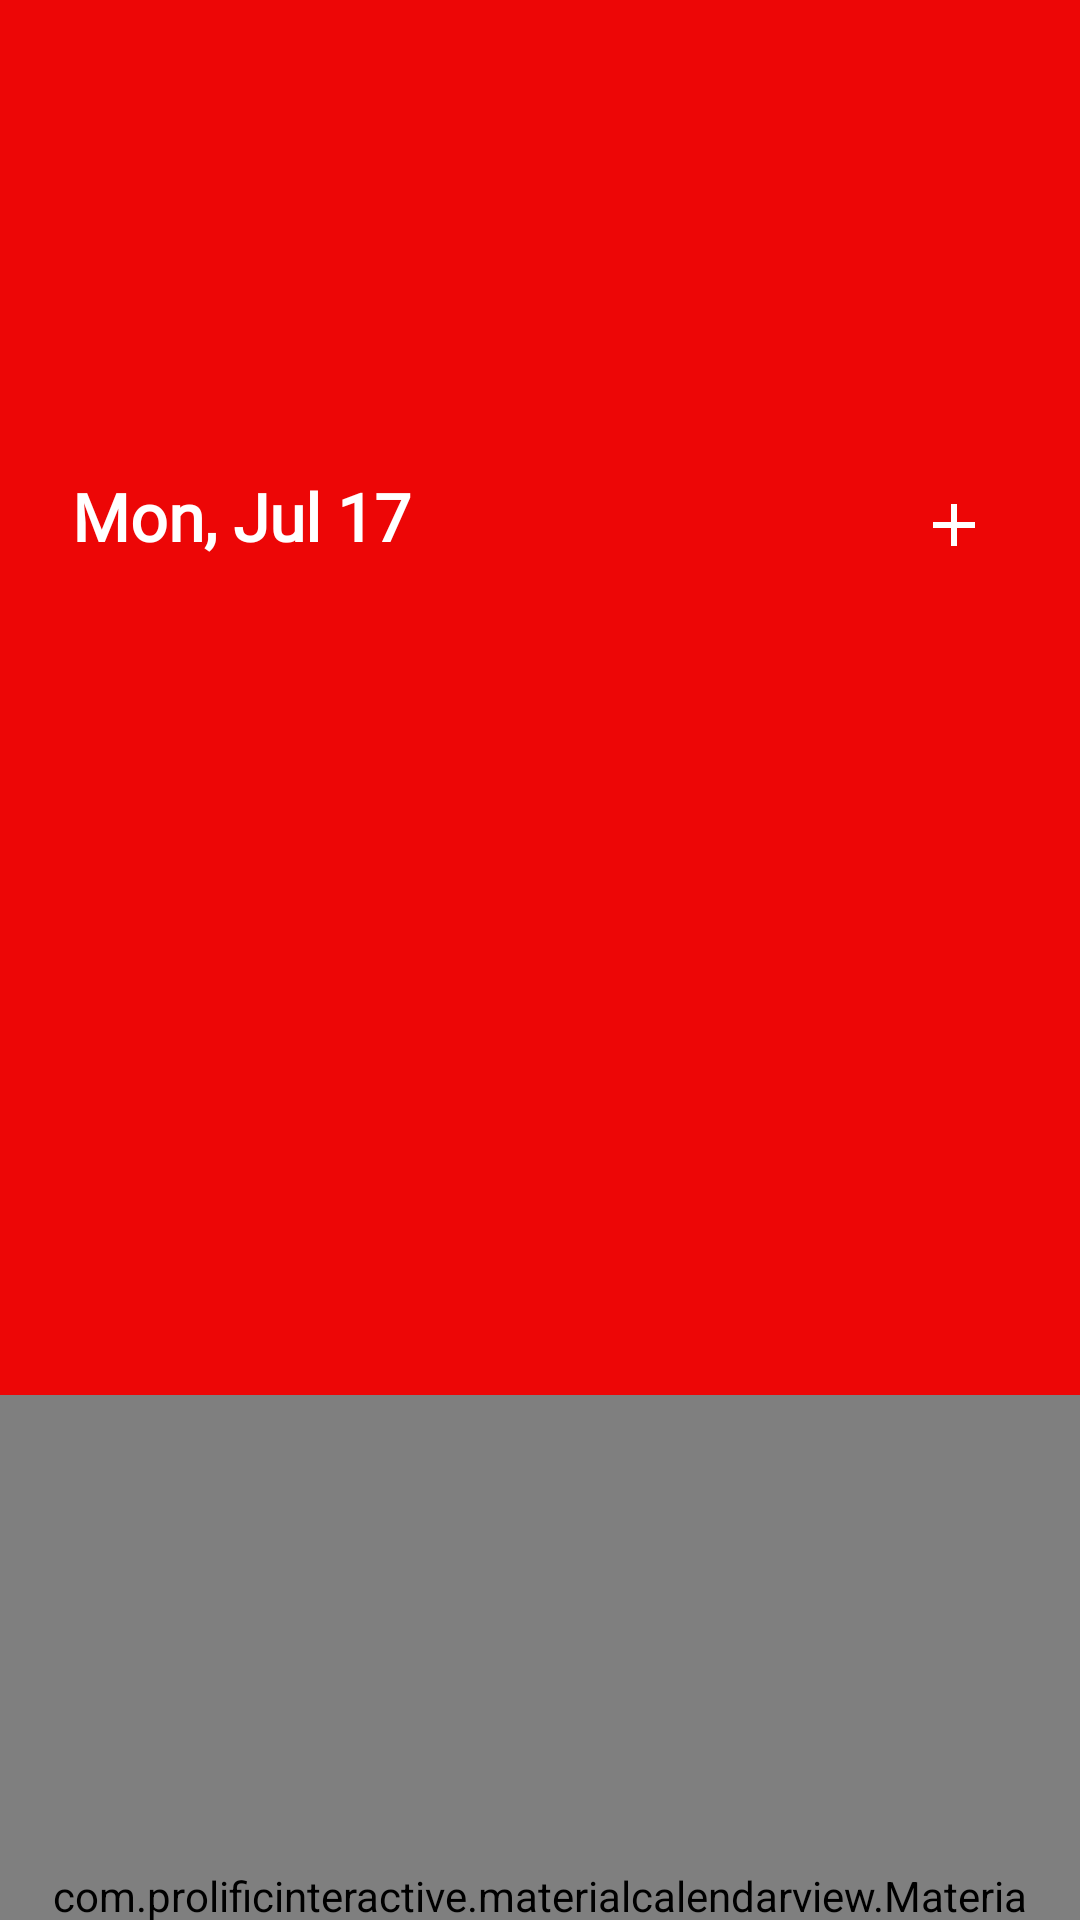

Where to tap for icons on this 1080w x 1920h app screen, as (x,y):
add: (954,525)
